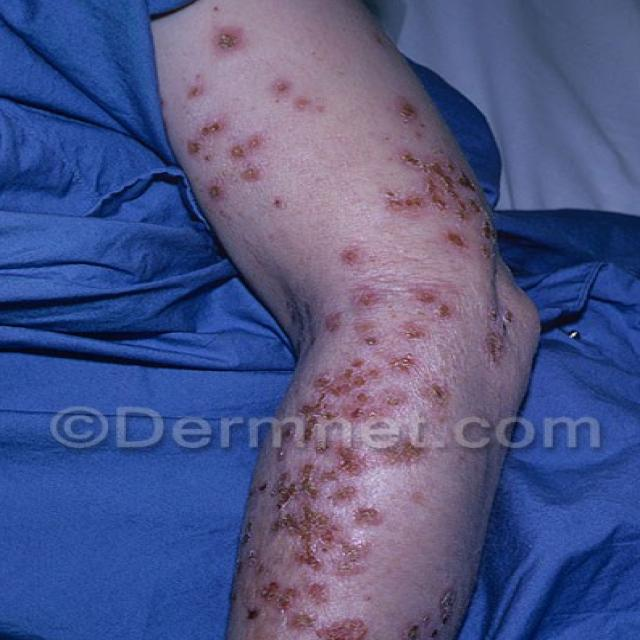Viral Infections: (203, 291, 503, 640), (125, 0, 512, 258)
